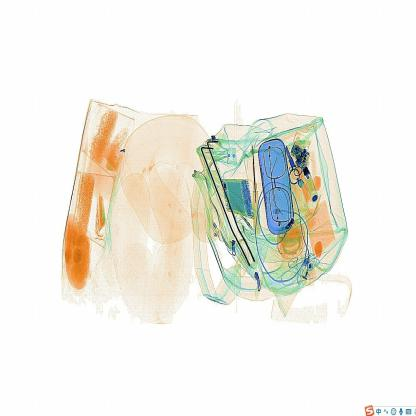wrench: (246, 134, 265, 248)
